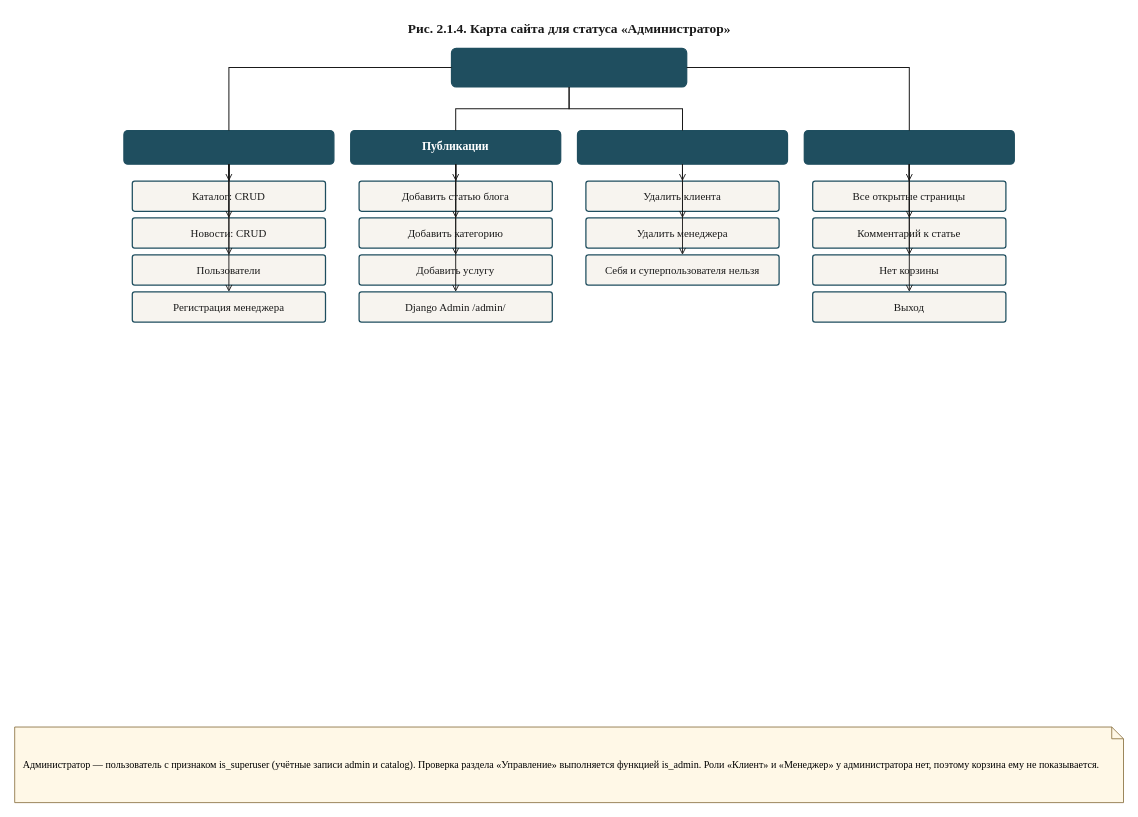
This 1138x817 diagram has some shape labels left out. The box of each missing label's shape, as (x1, y1, x2, y2) in pixels:
Просмотр: (803, 130, 1015, 164)
Сайт «Пси-Эксперт»: (450, 47, 687, 87)
Удаление: (576, 130, 788, 164)
Управление: (123, 130, 334, 164)
